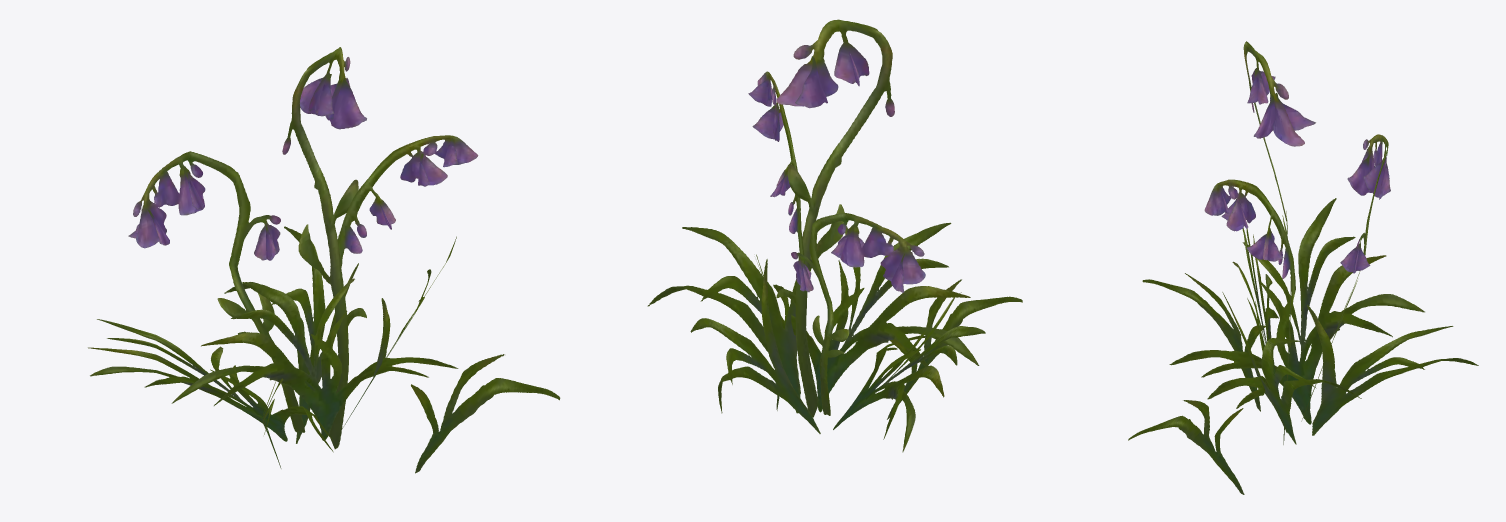
The picture shows the model from 3 angles, left to right: view 1: azimuth 30°, elevation 25°; view 2: azimuth 150°, elevation 25°; view 3: azimuth 270°, elevation 25°; orthographic projection. The views are drawn at different scales.
Size of the model in its own units: 2.52 by 2.61 by 2.22.
Materials: 1 (1 with a texture image).
